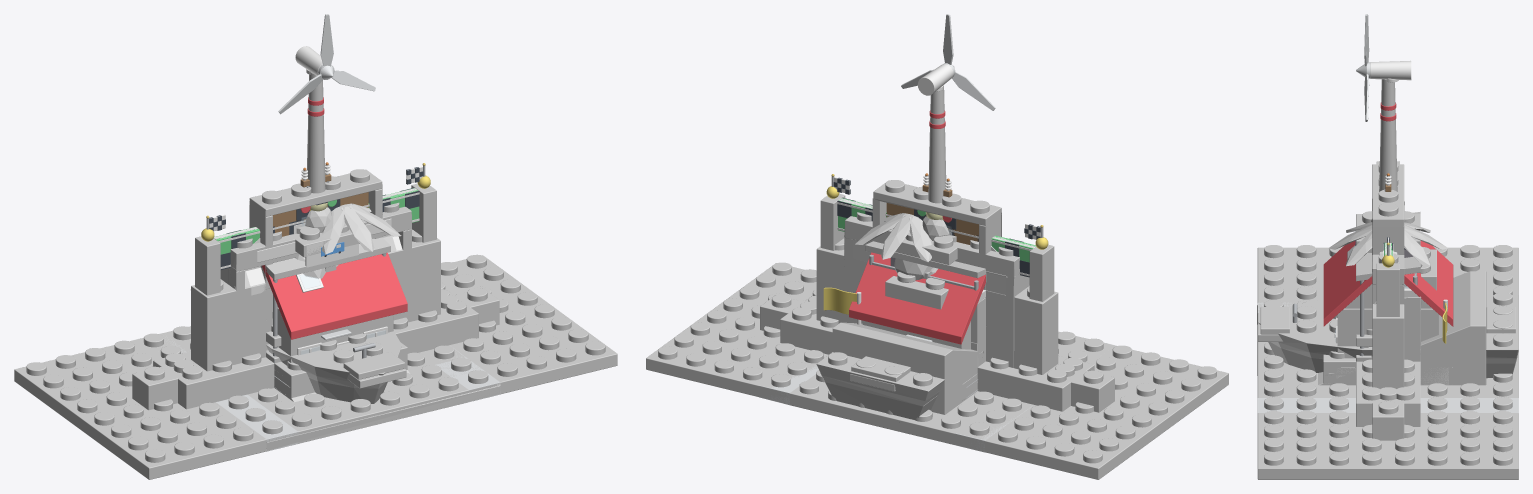
The model's file is parts.glb.
The picture shows the model from 3 angles, left to right: view 1: azimuth 30°, elevation 25°; view 2: azimuth 150°, elevation 25°; view 3: azimuth 270°, elevation 25°; orthographic projection. The views are drawn at different scales.
Parts seen in each view (by area): view 1: p8x16, ecohouse, arch1x8, p8x8, door1x4, hull, finishgate, windmill, b2x10, garage, p6x10, b1x12 (+14 smaller); view 2: p8x16, arch1x8, ecohouse, p8x8, ramp4x6, hull, door1x4, b2x10, finishgate, windmill, p6x10, b1x12 (+14 smaller); view 3: p8x16, ramp4x6, ecohouse, hull, windmill, p6x10, arch1x8, door1x4, p8x8, palm, seesaw, road (+15 smaller).
Boxes of the visible parts, x1,y1,x2,y2 form: p8x16: [14, 254, 617, 479]; ecohouse: [262, 252, 407, 365]; arch1x8: [191, 229, 440, 371]; p8x8: [133, 326, 499, 442]; door1x4: [249, 169, 382, 319]; hull: [190, 289, 401, 403]; finishgate: [195, 163, 436, 295]; windmill: [278, 14, 375, 193]; b2x10: [153, 289, 478, 409]; garage: [229, 202, 411, 356]; p6x10: [131, 338, 511, 428]; b1x12: [132, 288, 499, 410]; p8x16: [646, 262, 1228, 479]; arch1x8: [816, 238, 1058, 374]; ecohouse: [849, 252, 985, 349]; p8x8: [759, 331, 1114, 451]; ramp4x6: [832, 322, 985, 414]; hull: [816, 352, 944, 419]; door1x4: [872, 180, 1001, 289]; b2x10: [780, 295, 1094, 411]; finishgate: [820, 174, 1054, 301]; windmill: [901, 14, 995, 203]; p6x10: [748, 343, 1126, 433]; b1x12: [760, 294, 1114, 412]; p8x16: [1257, 245, 1518, 479]; ramp4x6: [1318, 271, 1486, 385]; ecohouse: [1323, 241, 1453, 358]; hull: [1258, 292, 1518, 378]; windmill: [1356, 14, 1411, 191]; p6x10: [1291, 286, 1485, 426]; arch1x8: [1372, 304, 1404, 388]; door1x4: [1372, 164, 1404, 254]; p8x8: [1257, 300, 1518, 410]; palm: [1328, 222, 1447, 266]; seesaw: [1257, 303, 1515, 341]; road: [1257, 302, 1518, 413].
Size of the model in its own units: 15.98 by 11.99 by 8.
